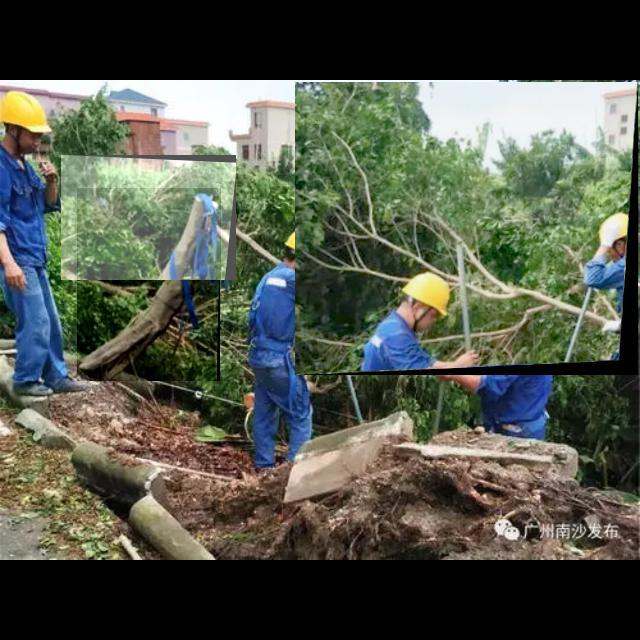fallen_tree: (295, 82, 639, 376), (77, 188, 221, 382), (61, 155, 237, 281)
